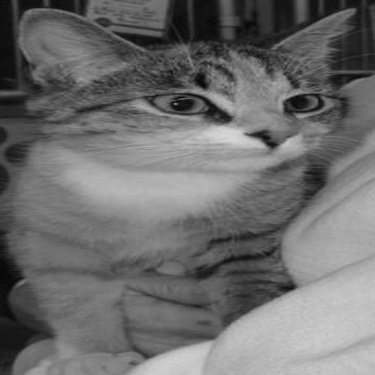cat: (11, 9, 358, 371)
